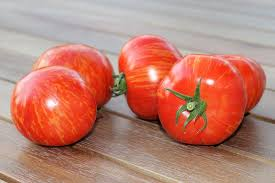tomato: (157, 54, 248, 147), (11, 65, 99, 148)
